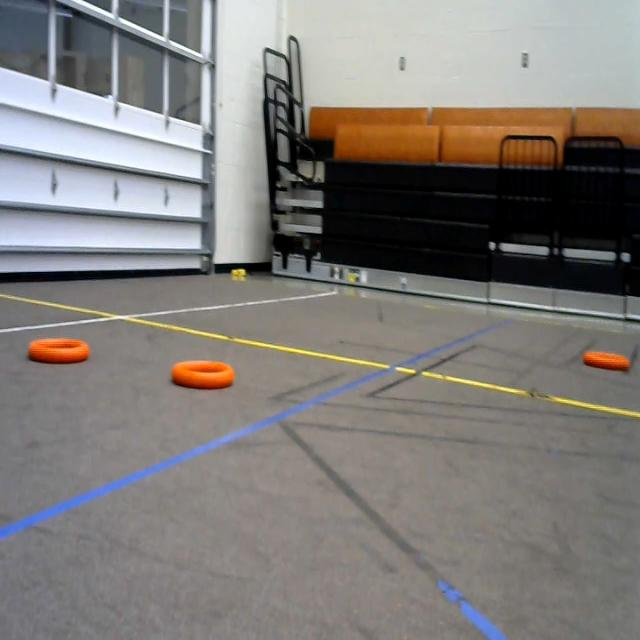note: (173, 352, 238, 394), (24, 335, 93, 374), (576, 343, 636, 377)
